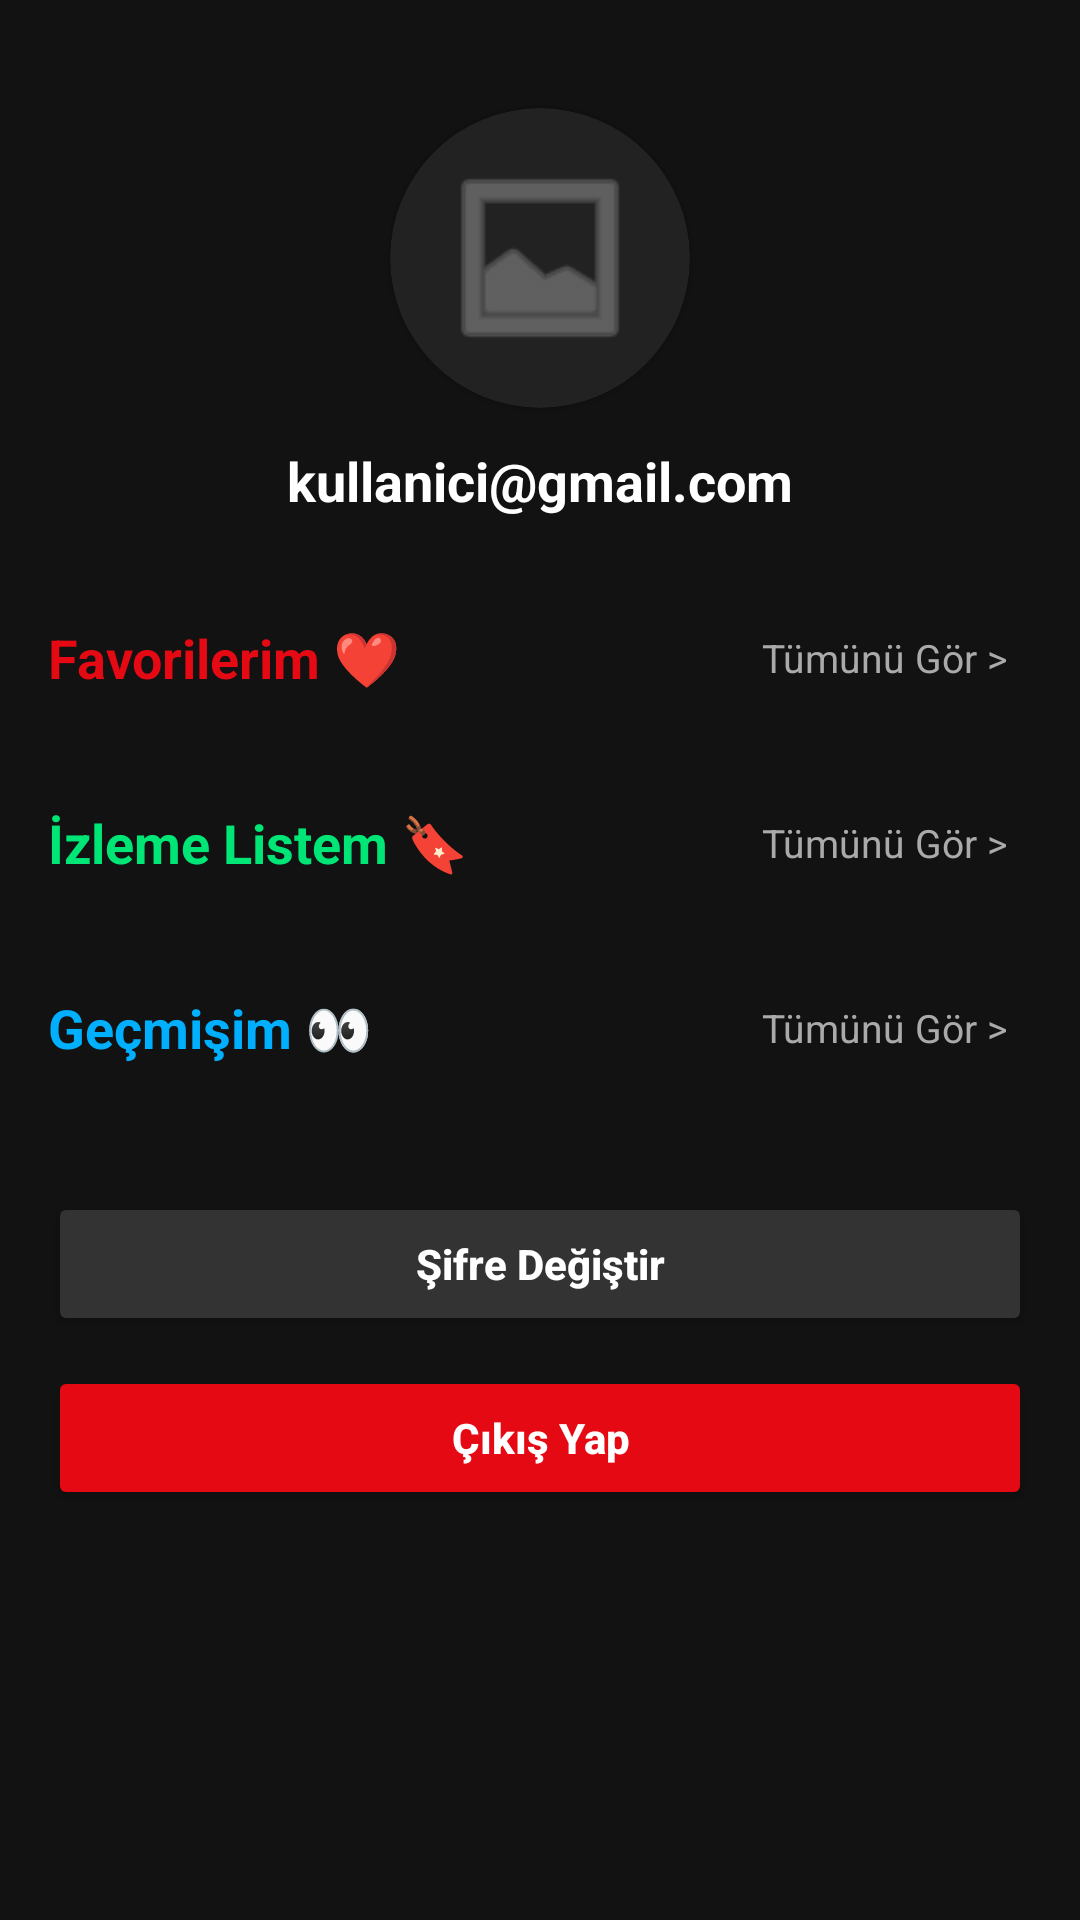

Where icons sit on this 1080x1920 app screen, as {"x1": x1, "y1": y1, "x2": x2, "y2": y2}:
gallery: {"x1": 461, "y1": 178, "x2": 619, "y2": 338}
